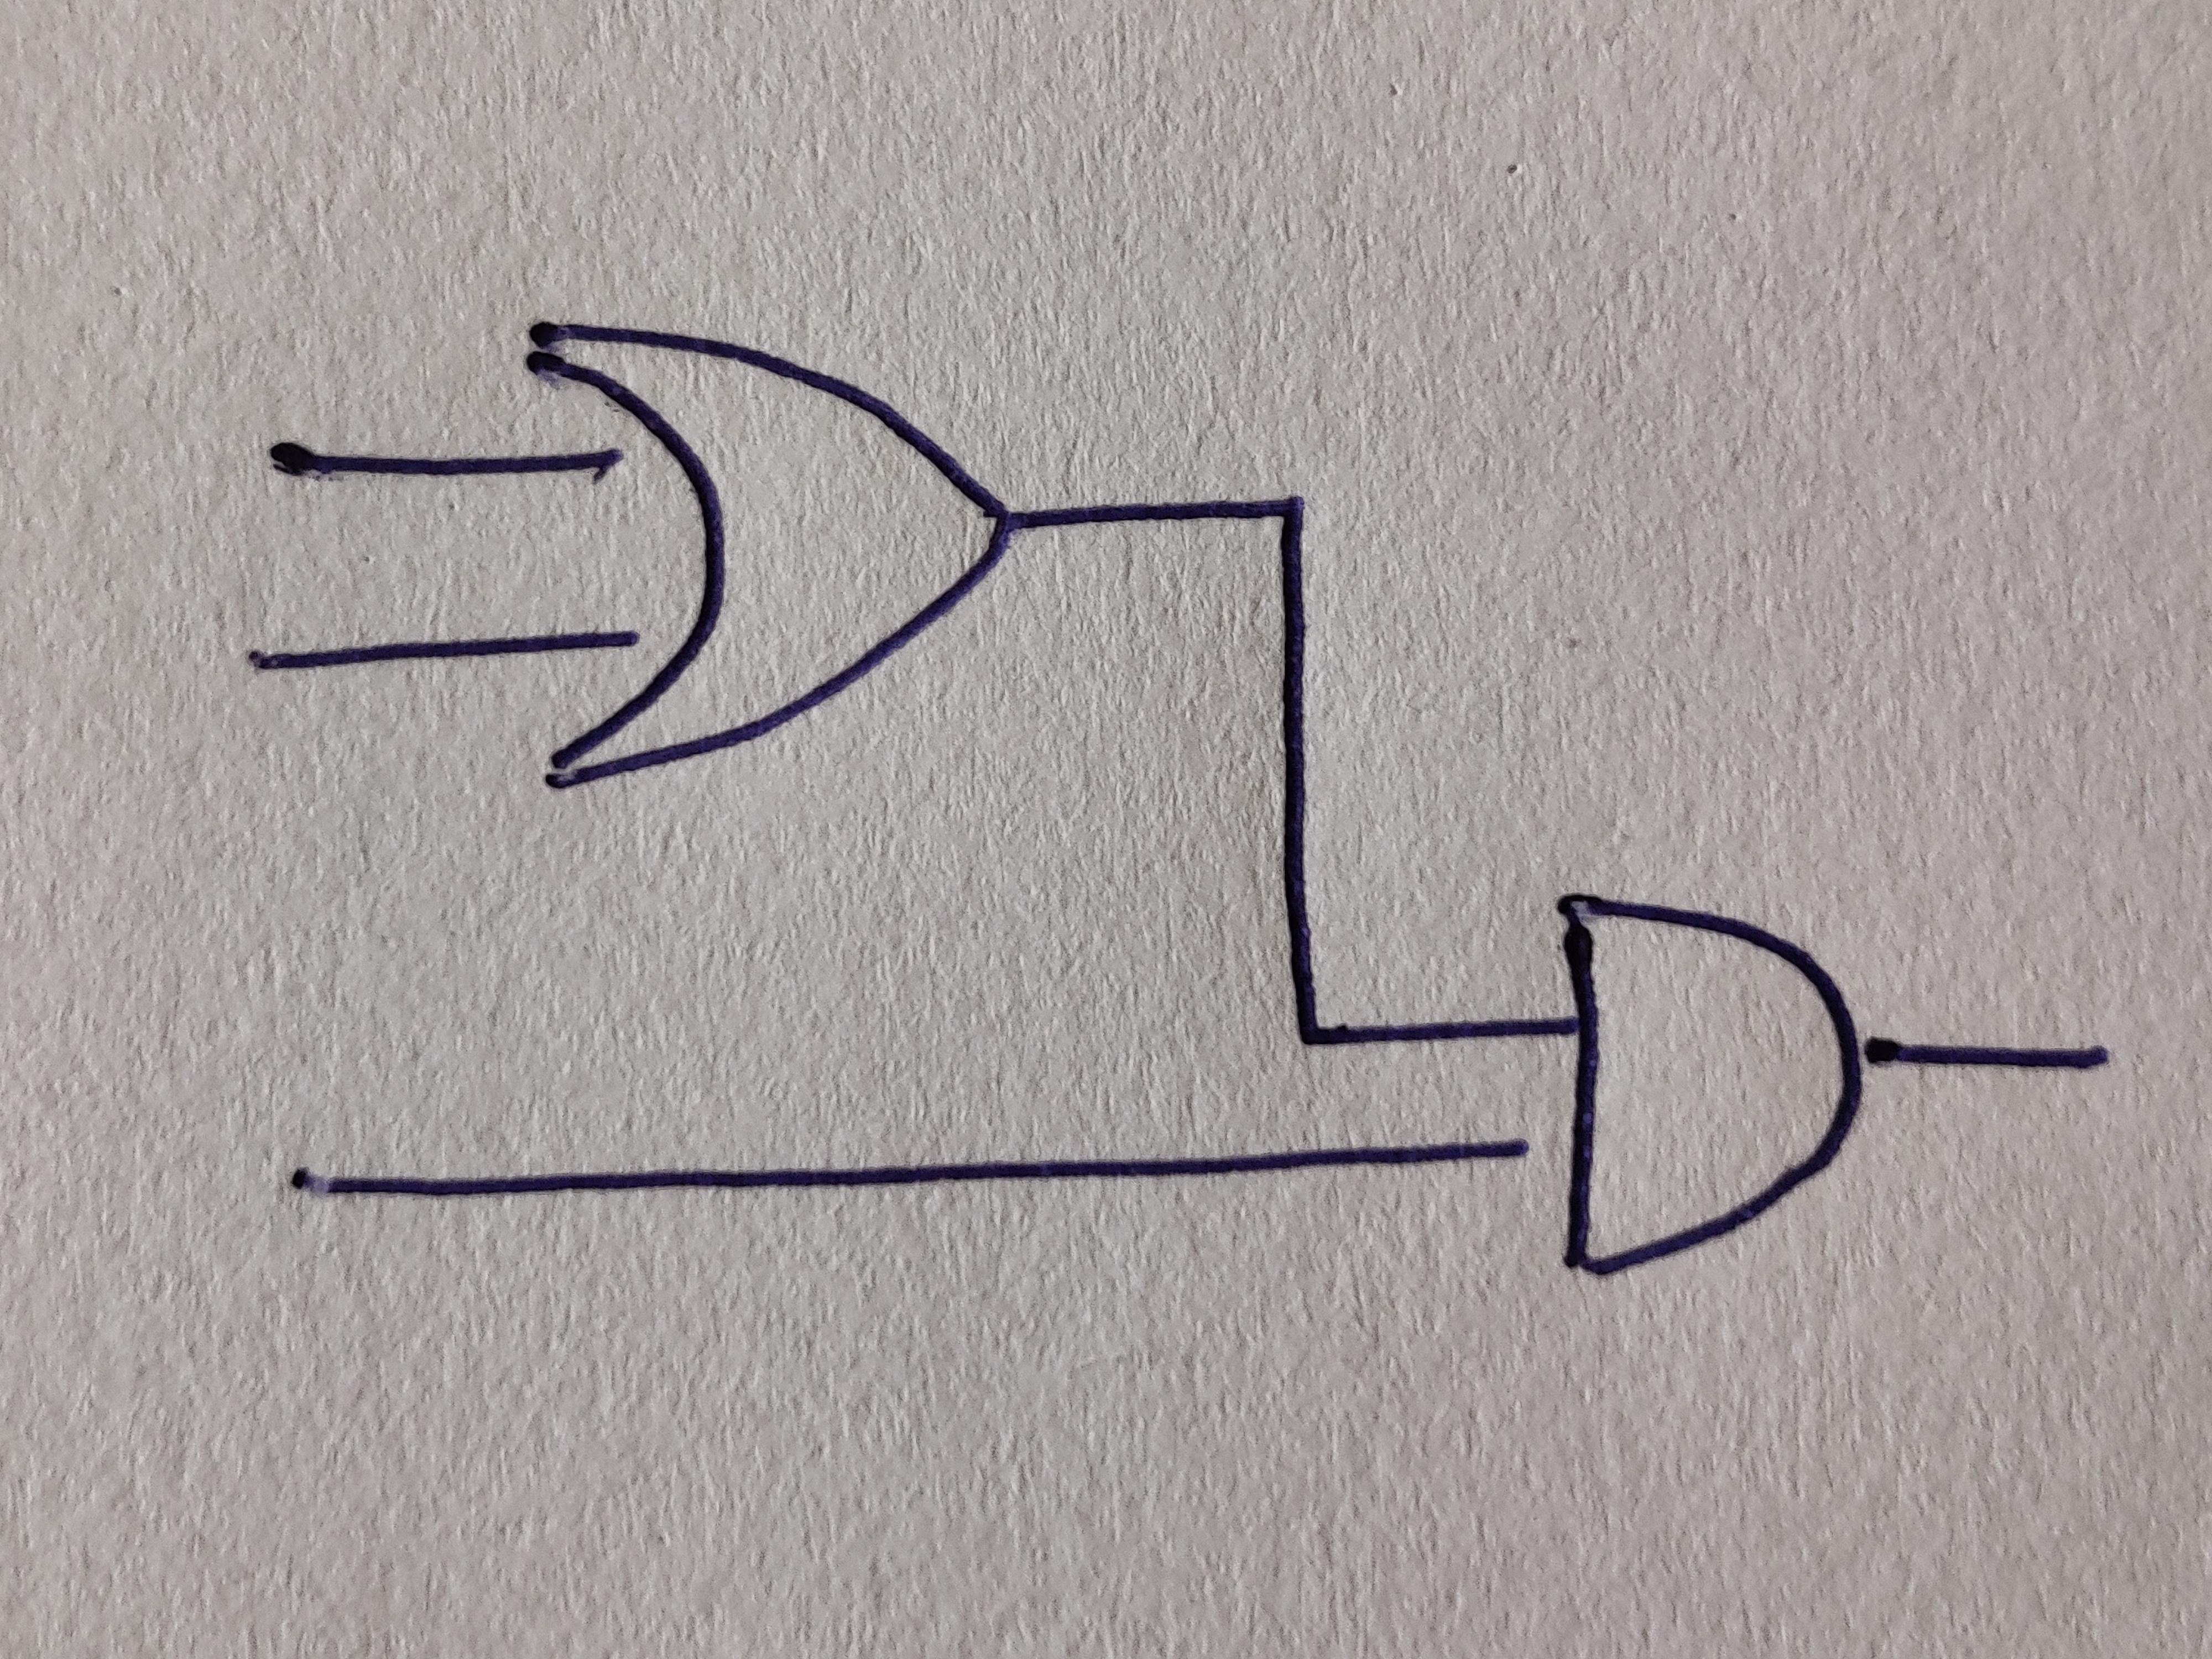and: (1557, 894, 1860, 1276)
or: (526, 322, 1014, 791)
